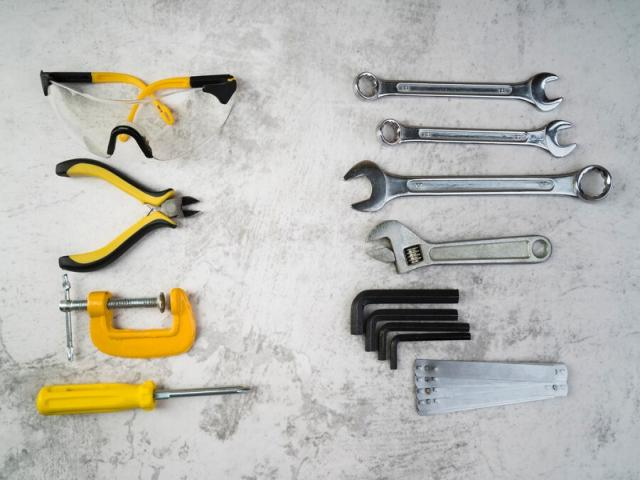Adjustable spanner: (366, 221, 551, 273)
Cutting pliers: (56, 159, 198, 272)
Screwdriver: (36, 381, 251, 415)
Wrench: (344, 162, 612, 211), (354, 72, 562, 111), (376, 118, 576, 158)
